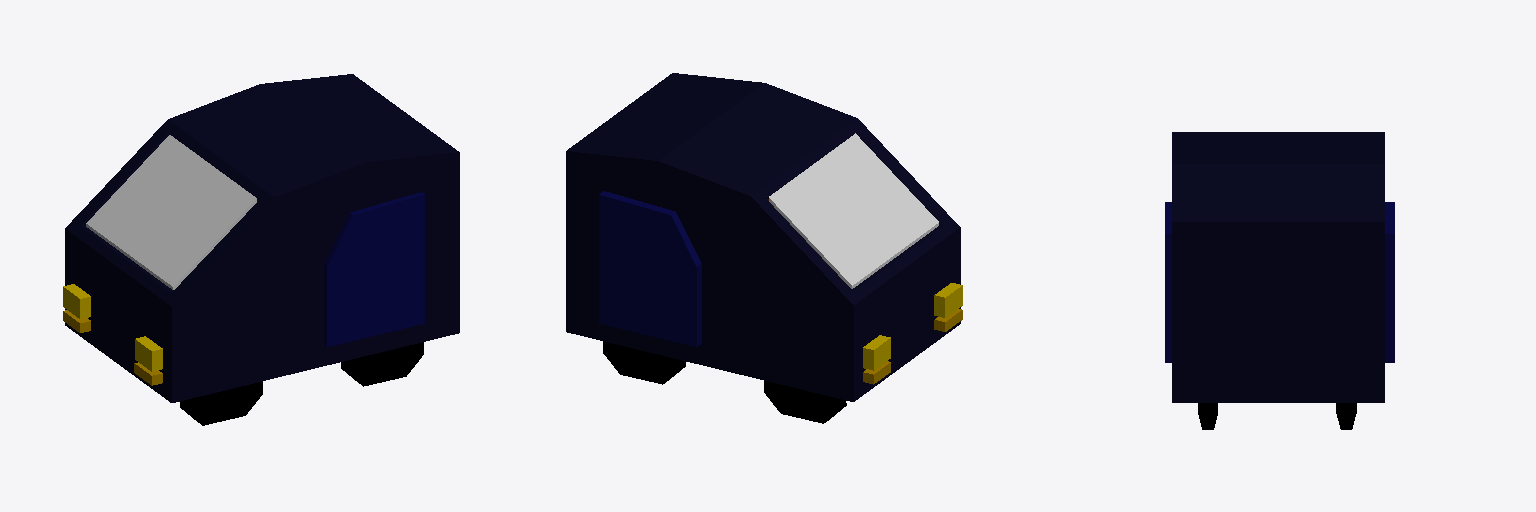
The model's file is Car1.obj.
3 views of the same model, side by side, from view 1: azimuth 30°, elevation 25°; view 2: azimuth 150°, elevation 25°; view 3: azimuth 270°, elevation 25° (orthographic).
Visible parts, largest first — view 1: Car_Cube, Window_Cube.003, RightDoor_Cube.011, RightBackWhell_Cube.014, RightFrontWheel_Cube.012, RightFlash_Cube.004, LeftFlash_Cube.002; view 2: Car_Cube, Window_Cube.003, LeftDoor_Cube.010, LeftBackWheel_Cube.015, LeftFrontWheel_Cube.013, RightFlash_Cube.004, LeftFlash_Cube.002; view 3: Car_Cube, LeftDoor_Cube.010, RightDoor_Cube.011.
Part boxes in pixels (x1,y1,x2,y2): Car_Cube: (65, 74, 459, 402); Window_Cube.003: (86, 135, 256, 289); RightDoor_Cube.011: (324, 192, 424, 346); RightBackWhell_Cube.014: (341, 342, 423, 386); RightFrontWheel_Cube.012: (180, 381, 262, 425); RightFlash_Cube.004: (135, 336, 162, 371); LeftFlash_Cube.002: (63, 284, 90, 318); Car_Cube: (566, 73, 960, 401); Window_Cube.003: (769, 133, 938, 288); LeftDoor_Cube.010: (599, 191, 701, 346); LeftBackWheel_Cube.015: (603, 341, 685, 384); LeftFrontWheel_Cube.013: (764, 381, 846, 423); RightFlash_Cube.004: (934, 283, 962, 317); LeftFlash_Cube.002: (863, 335, 890, 370); Car_Cube: (1172, 132, 1384, 402); LeftDoor_Cube.010: (1385, 202, 1394, 362); RightDoor_Cube.011: (1165, 202, 1171, 362).
Bounding box in the file's own units: 3.43 × 2.62 × 2.29.